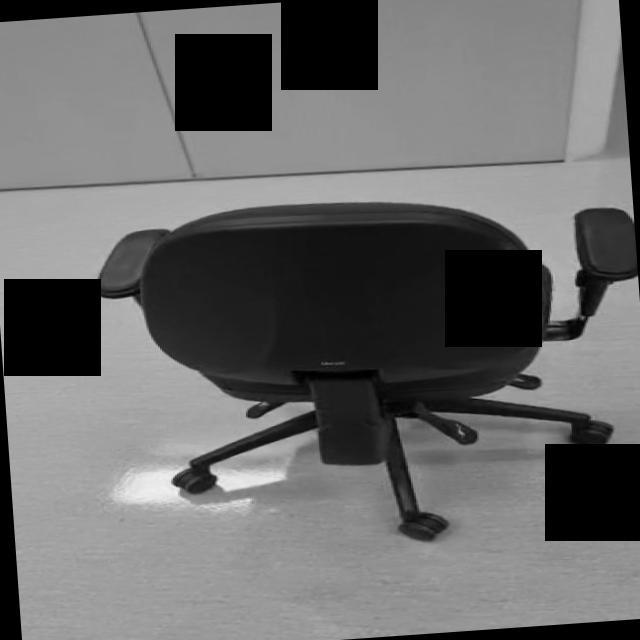chair: (87, 179, 640, 560)
